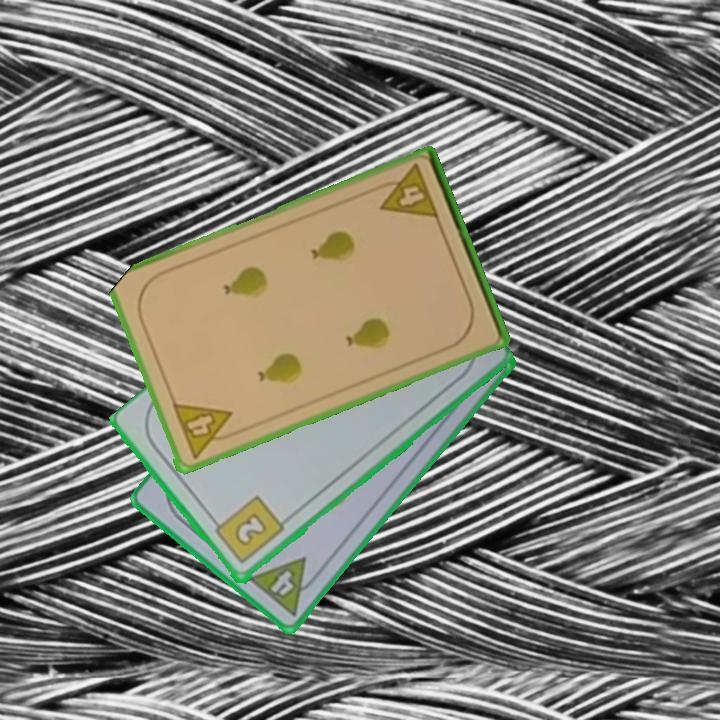2b: (208, 493, 287, 568)
4p: (245, 554, 325, 619), (370, 160, 442, 223), (169, 399, 241, 461)
